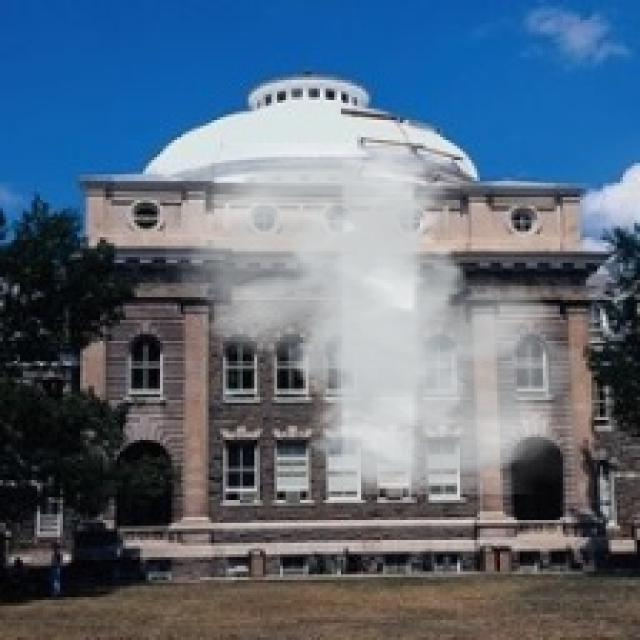smoke: (166, 143, 591, 494)
